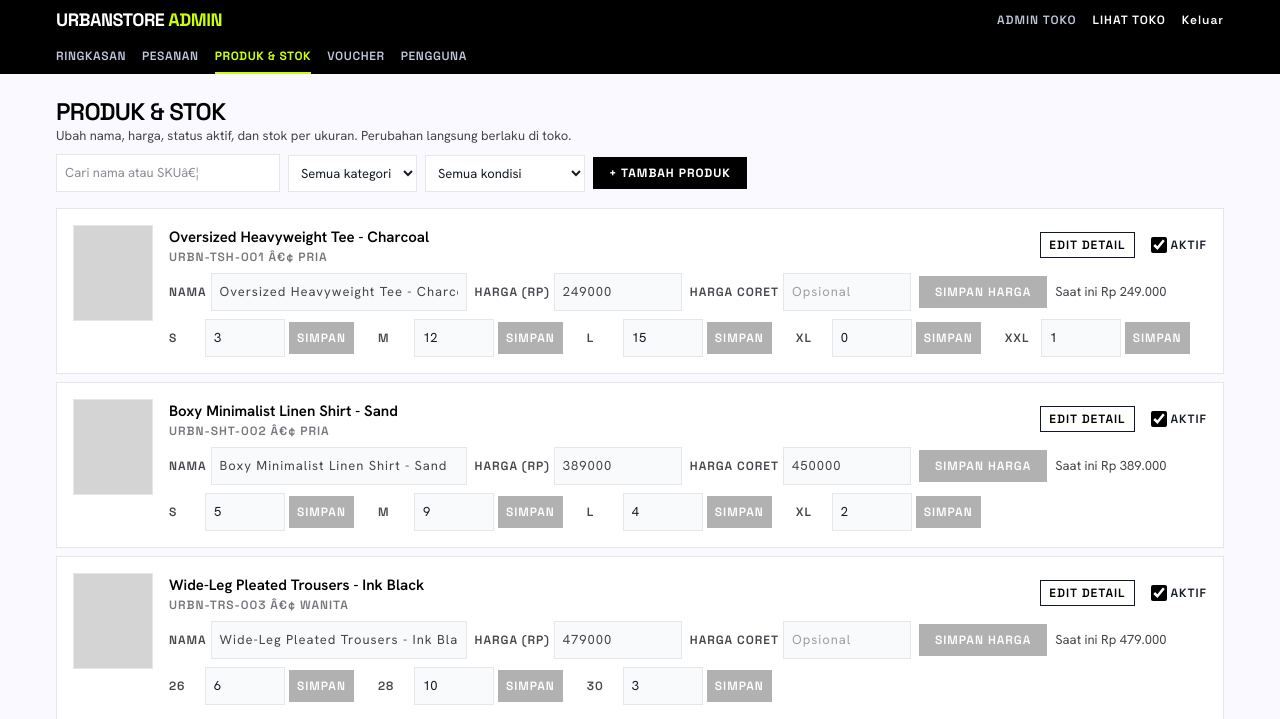
Test case: panel admin: produk & stok › admin dapat membuka halaman edit detail produk dan menyimpan perubahan menyeluruh
Step 1. Click the link "Edit Detail" in the row of "Oversized Heavyweight Tee - Charcoal" → {"x": 1087, "y": 245}, box [1040, 232, 1134, 258]
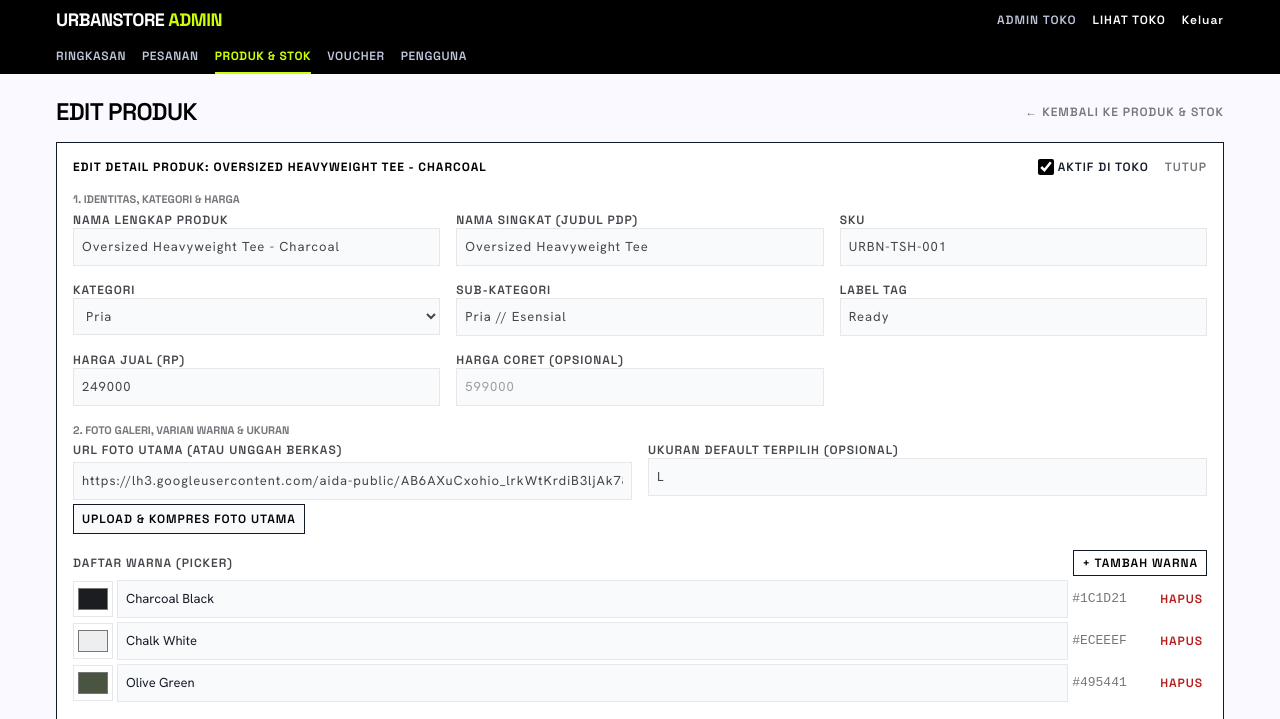
Check: the heading "Edit Produk" is shown, box [56, 98, 197, 126]
Step 2. Replace the text in the field named "Nama Singkat Produk Baru" with "Heavyweight Tee Pro" → {"x": 640, "y": 246}, box [456, 228, 824, 266]
(page scrolled)
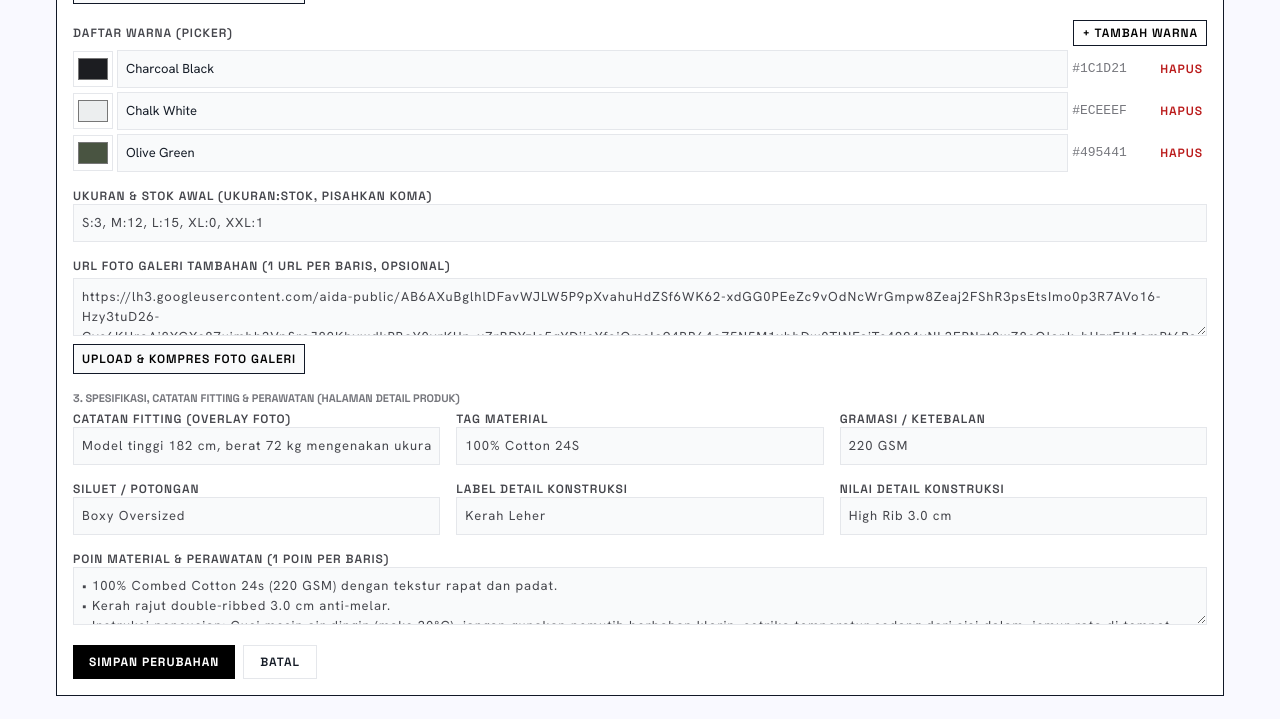
Step 3. Replace the text in the field named "Catatan Fitting Produk Baru" with "Model 185cm memakai XL" → {"x": 257, "y": 446}, box [73, 426, 440, 464]
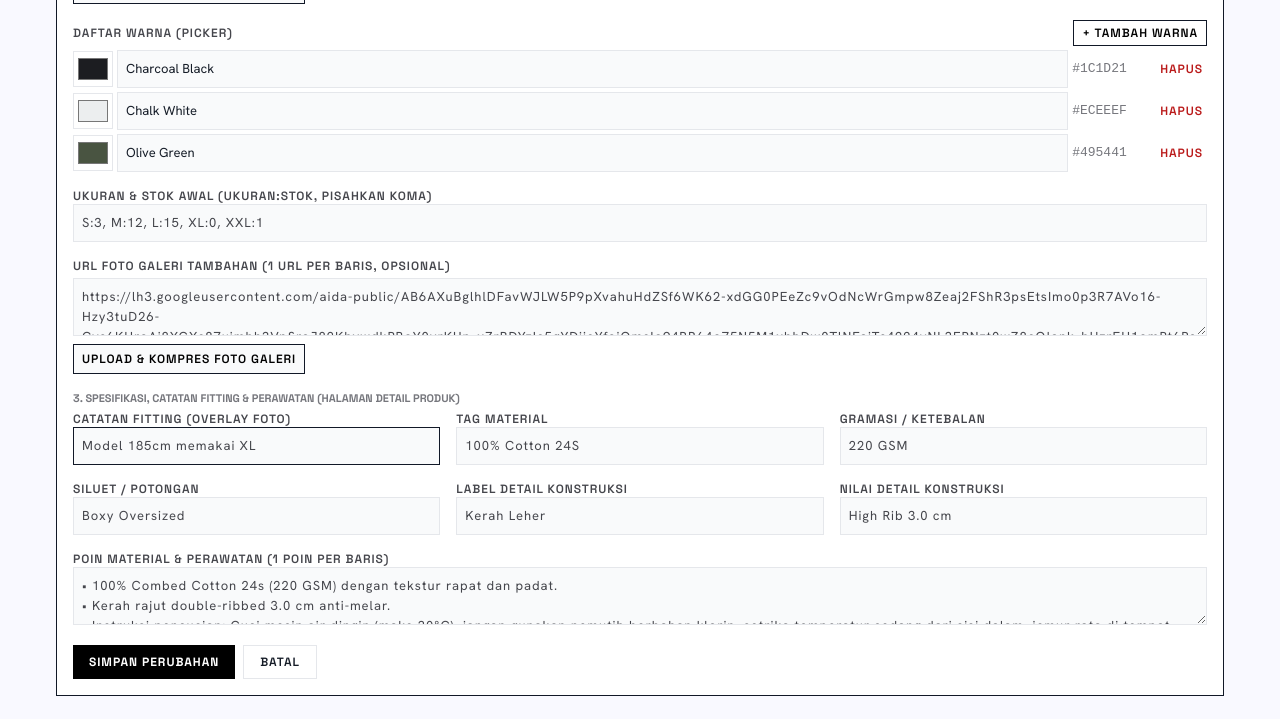
Step 4. Click the button "Simpan Perubahan" → {"x": 154, "y": 662}, box [73, 644, 235, 678]
(page scrolled)
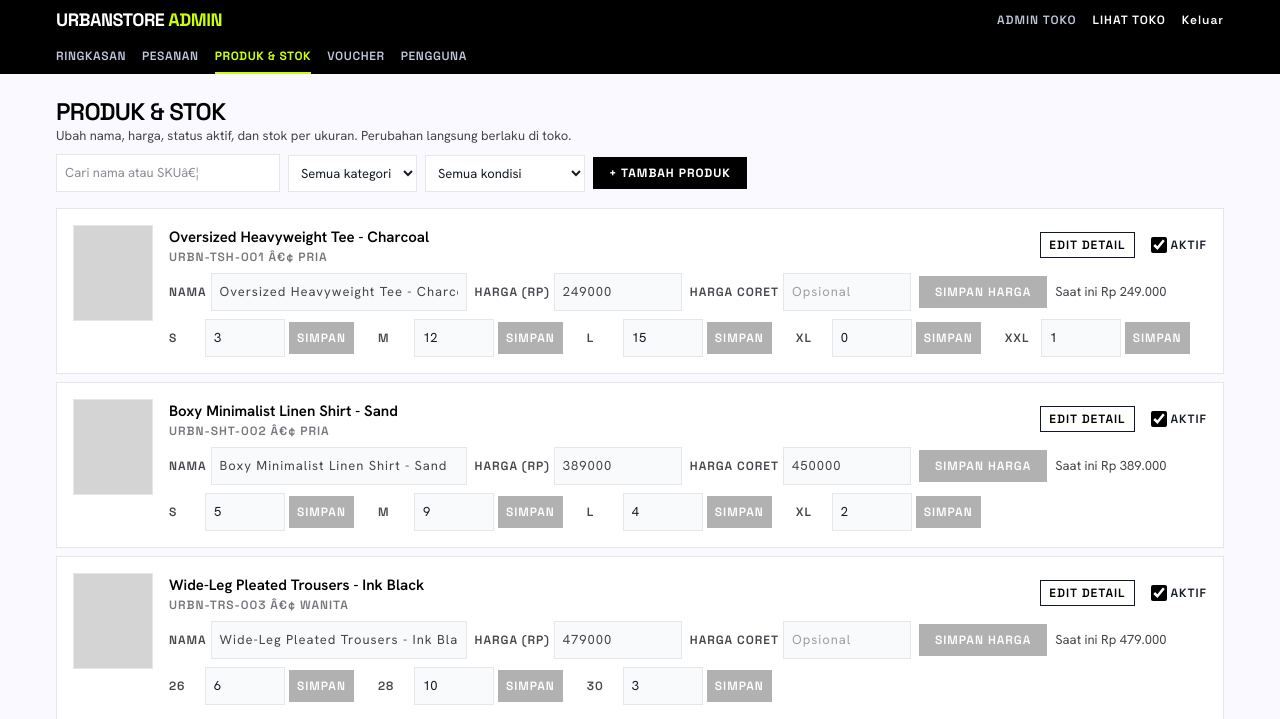
Check: the heading "Produk & Stok" is shown, box [56, 96, 226, 127]
